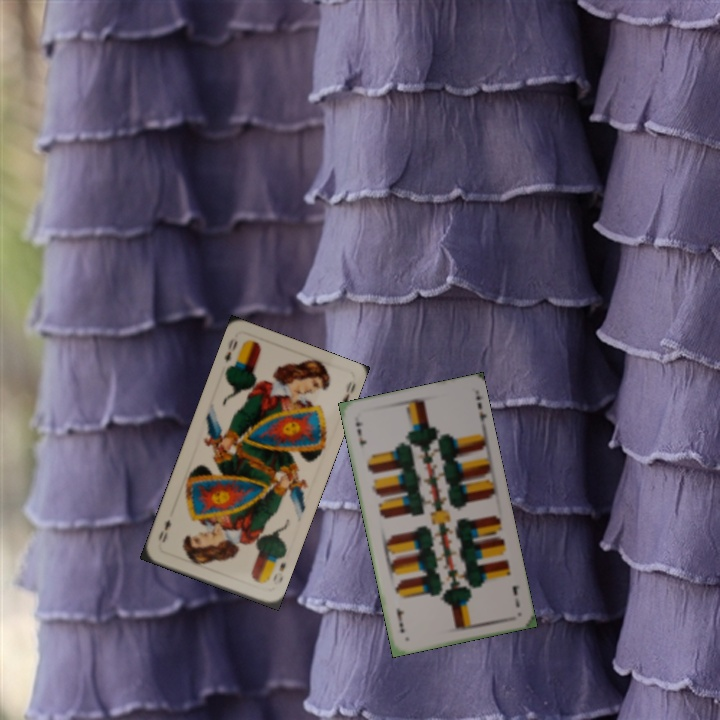E7: (351, 418, 369, 451), (508, 582, 522, 610)
EO: (220, 334, 240, 365), (269, 558, 288, 587)
